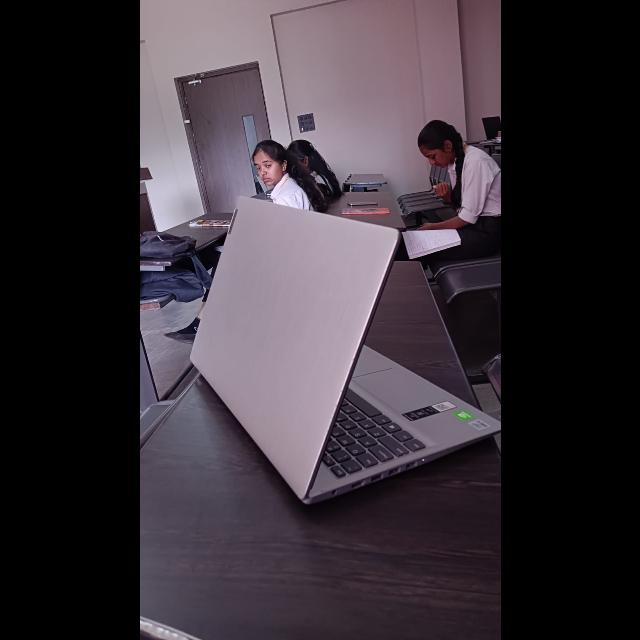laptop: (185, 213, 500, 522)
